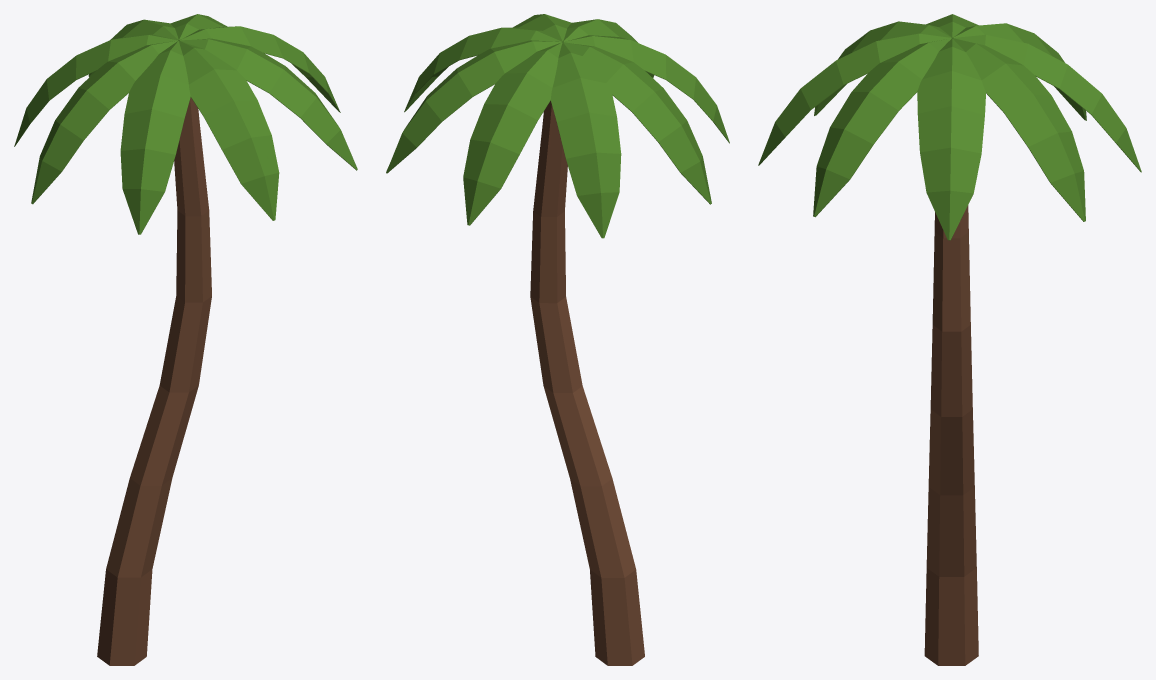
The model's file is SPW_Natures_Tree_Palm_03.glb.
3 renders of one model, left to right at view 1: azimuth 30°, elevation 25°; view 2: azimuth 150°, elevation 25°; view 3: azimuth 270°, elevation 25°, orthographic. The views are drawn at different scales.
Parts seen in each view (by area): view 1: SPW_Natures_Tree_Palm_03; view 2: SPW_Natures_Tree_Palm_03; view 3: SPW_Natures_Tree_Palm_03.
Part boxes in pixels (bbox=[...]): SPW_Natures_Tree_Palm_03: bbox=[14, 14, 357, 665]; SPW_Natures_Tree_Palm_03: bbox=[386, 14, 729, 665]; SPW_Natures_Tree_Palm_03: bbox=[758, 14, 1141, 665].
Bounding box in the file's own units: 4.23 × 7.96 × 4.23.
1 material, 1 textured.
